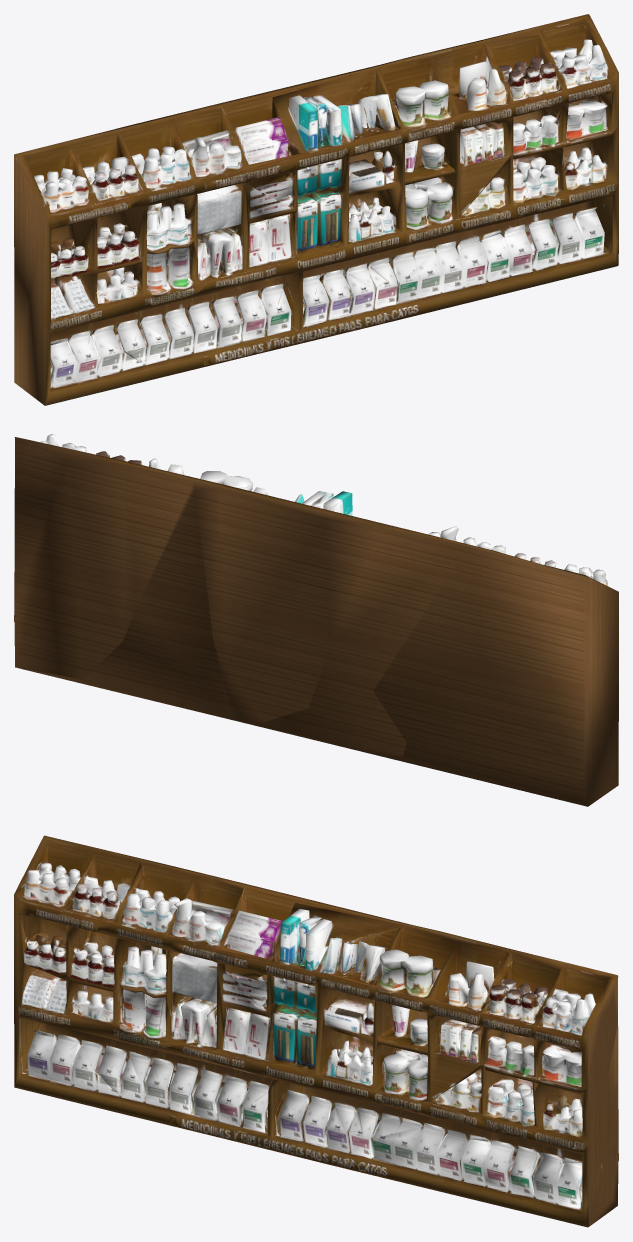
The model's file is Meshy_AI_Cat_Medicines_and_Sup_0610205140_texture.fbx.
The picture shows the model from 3 angles, top to bottom: view 1: azimuth 30°, elevation 25°; view 2: azimuth 150°, elevation 25°; view 3: azimuth 330°, elevation 25°; orthographic projection.
Parts seen in each view (by area): view 1: Mesh_0; view 2: Mesh_0; view 3: Mesh_0.
Part boxes in pixels (x1,y1,x2,y2): Mesh_0: [14, 14, 618, 405]; Mesh_0: [14, 434, 618, 806]; Mesh_0: [14, 835, 618, 1227].
Bounding box in the file's own units: 191 × 73.36 × 19.48.
1 material, 1 textured.
